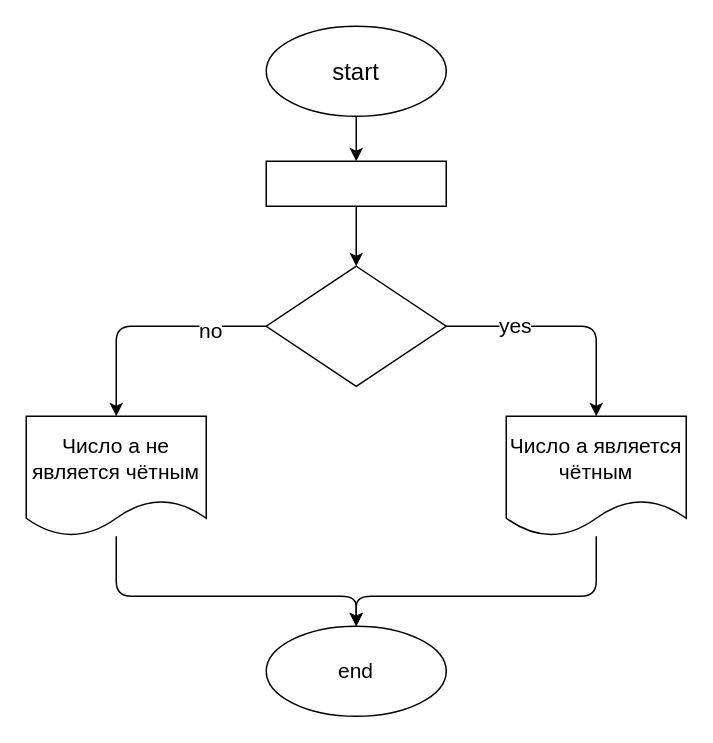
Some shapes in this 713 by 743 pixel diagram are drawn without their labels. The centre of each missing label's shape, as x and y in pixels:
a = 4: (x=355, y=183)
a mod 2 == 0: (x=355, y=325)
